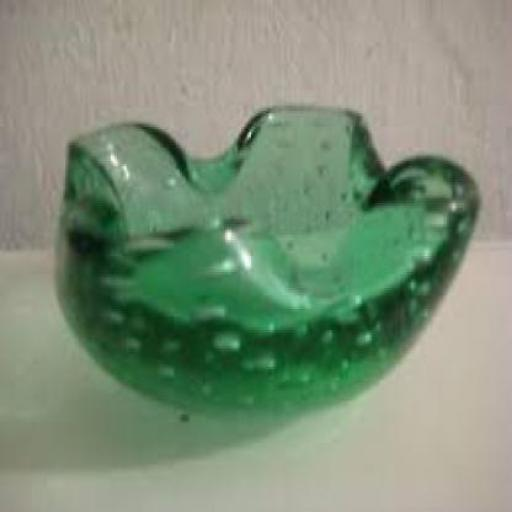glass: (53, 103, 479, 409)
